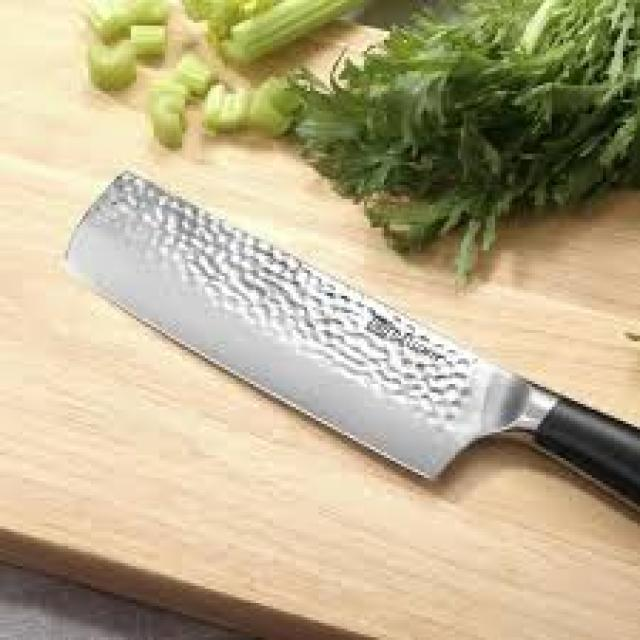Knife: (68, 171, 637, 515)
